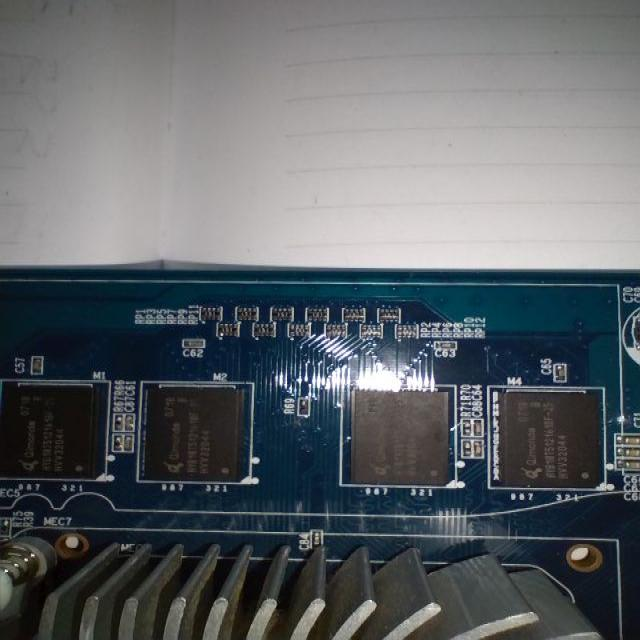capacitor: (308, 304, 332, 330), (181, 336, 210, 352), (431, 343, 463, 353)
resistor: (235, 299, 263, 323)
